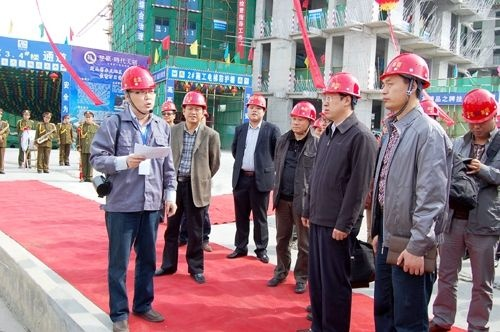red: (378, 53, 432, 113), (118, 63, 156, 113), (322, 71, 360, 121), (464, 87, 497, 138), (291, 101, 316, 137), (181, 90, 205, 124), (245, 93, 266, 123), (161, 101, 178, 123)
